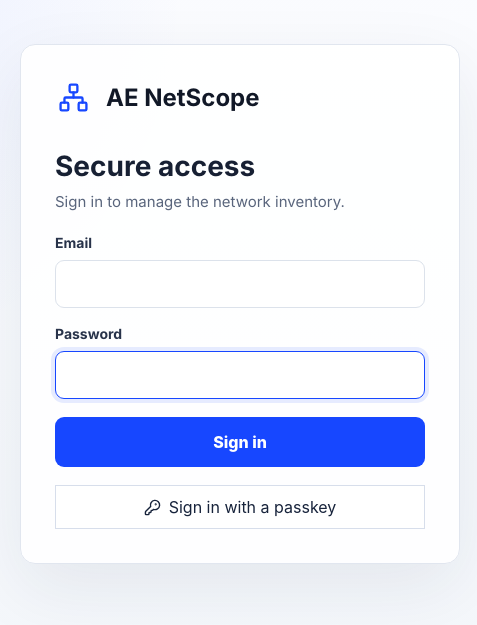
Test: LoginScreen › explains when the browser does not support passkeys
The width and height of the screenshot is (477, 625).
Type "admin@example.com" into the field labelled "Email". click: (240, 284)
box: 55,260 -> 425,308
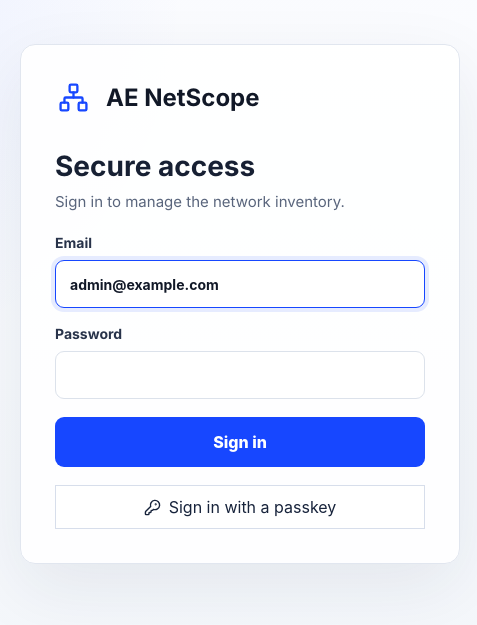
Click the button "Sign in with a passkey". click: (240, 507)
box: 55,485 -> 425,529
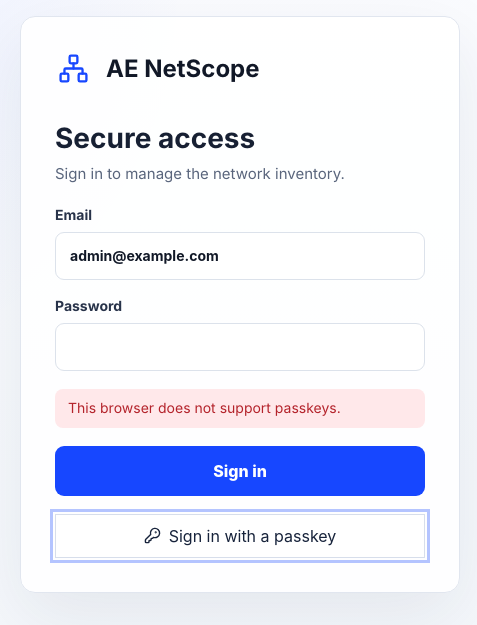
Now the text "This browser does not support passkeys." is shown, box 55,388 -> 425,428
